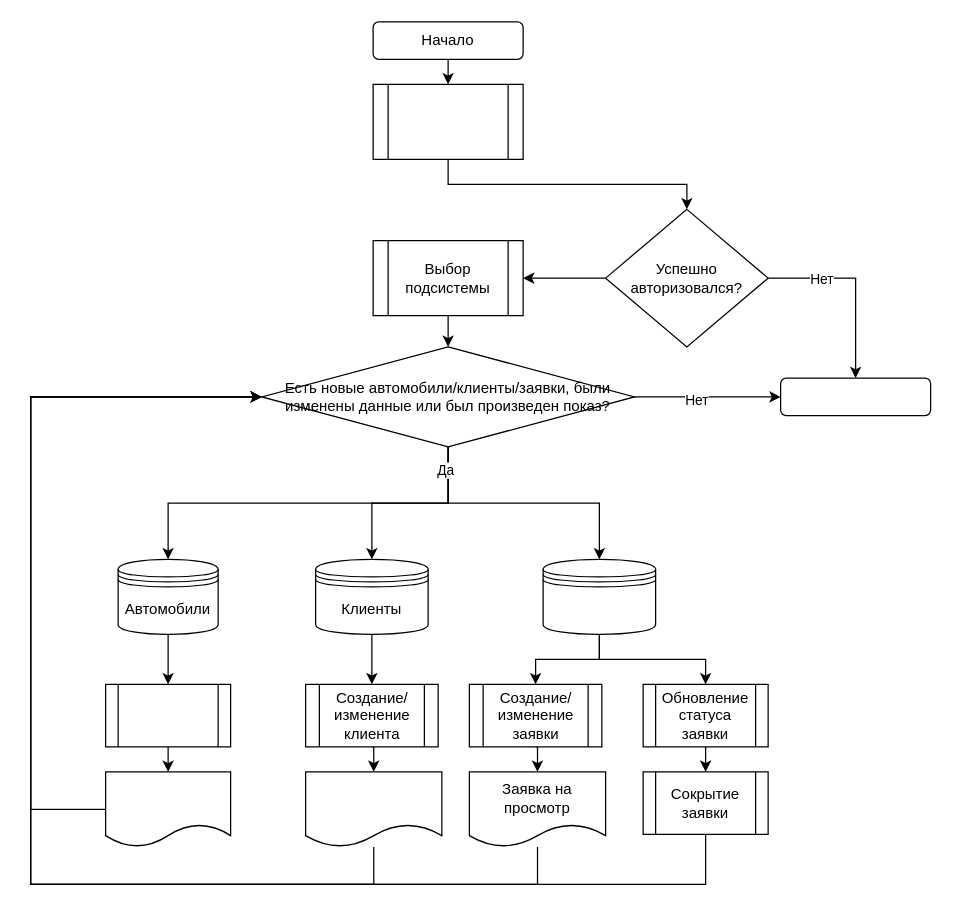
Some shapes in this 953 by 916 pixel diagram are drawn without their labels. Here are the shapes that lost their labels. From the top down, the box of each, then its label:
(372, 83, 523, 159): Авторизация
(779, 377, 931, 416): Конец
(542, 558, 656, 634): Заявки на просмотр
(104, 683, 231, 747): Создание/изменение автомобиля
(104, 771, 231, 847): Автомобиль
(304, 771, 442, 847): Клиент
